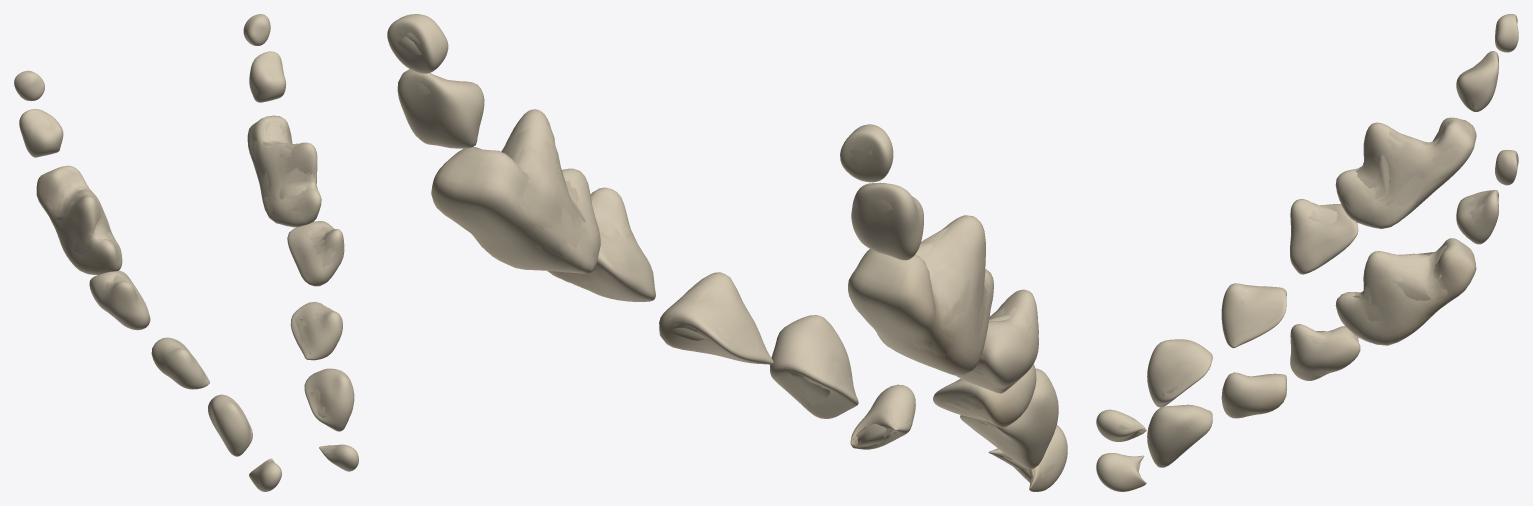
The model's file is Teeth Lower.fbx.
3 views of the same model, side by side, from view 1: azimuth 30°, elevation 25°; view 2: azimuth 150°, elevation 25°; view 3: azimuth 270°, elevation 25° (orthographic). The views are drawn at different scales.
Visible parts, largest first — view 1: Teeth Lower high, Teeth Lower, Teeth Lower low; view 2: Teeth Lower high, Teeth Lower, Teeth Lower low; view 3: Teeth Lower high, Teeth Lower, Teeth Lower low.
Part boxes in pixels (left/top/right/bottom): Teeth Lower high: left=14, top=14, right=358, bottom=491; Teeth Lower: left=26, top=32, right=336, bottom=482; Teeth Lower low: left=40, top=60, right=334, bottom=479; Teeth Lower high: left=387, top=14, right=1067, bottom=491; Teeth Lower: left=397, top=32, right=1054, bottom=486; Teeth Lower low: left=397, top=36, right=1055, bottom=482; Teeth Lower high: left=1096, top=14, right=1518, bottom=491; Teeth Lower: left=1117, top=57, right=1517, bottom=475; Teeth Lower low: left=1119, top=63, right=1517, bottom=476.
Bounding box in the file's own units: 11.87 × 13.86 × 13.86.
Materials: 1 (1 with a texture image).
